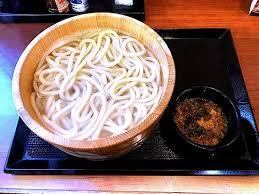kamaage: (10, 11, 184, 171)
